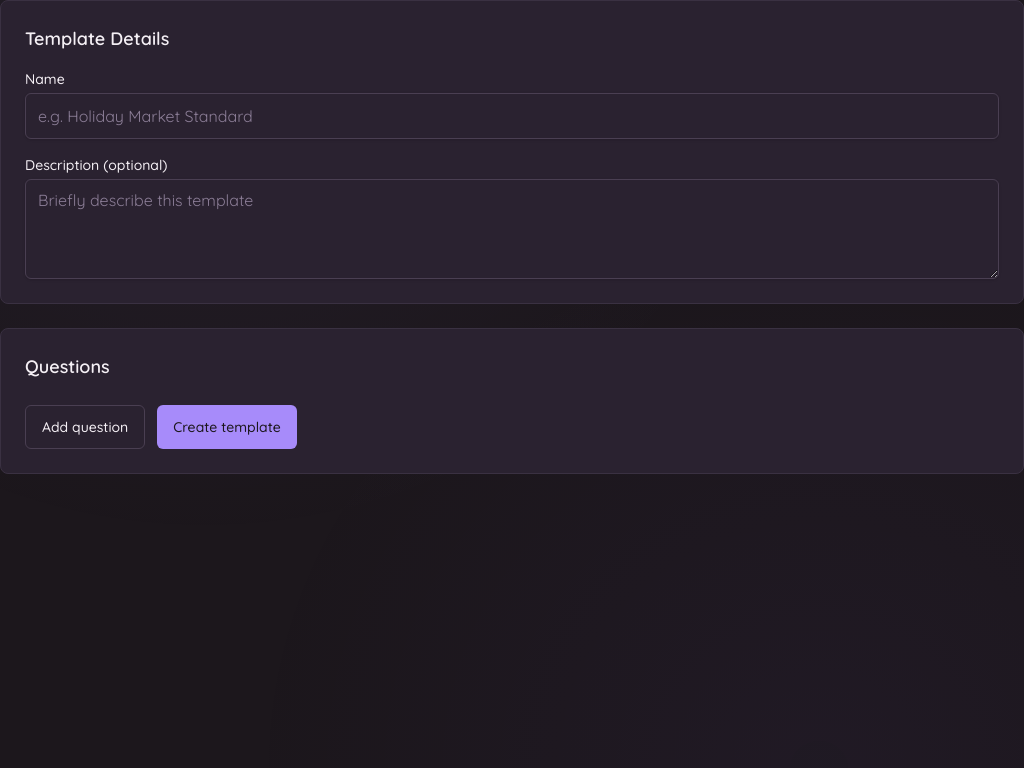
Test: TemplateBuilder › validation › shows name error and blocks save when name is empty
The width and height of the screenshot is (1024, 768).
Click the button "Create template": coordinates (227, 427) [157, 405, 297, 449]
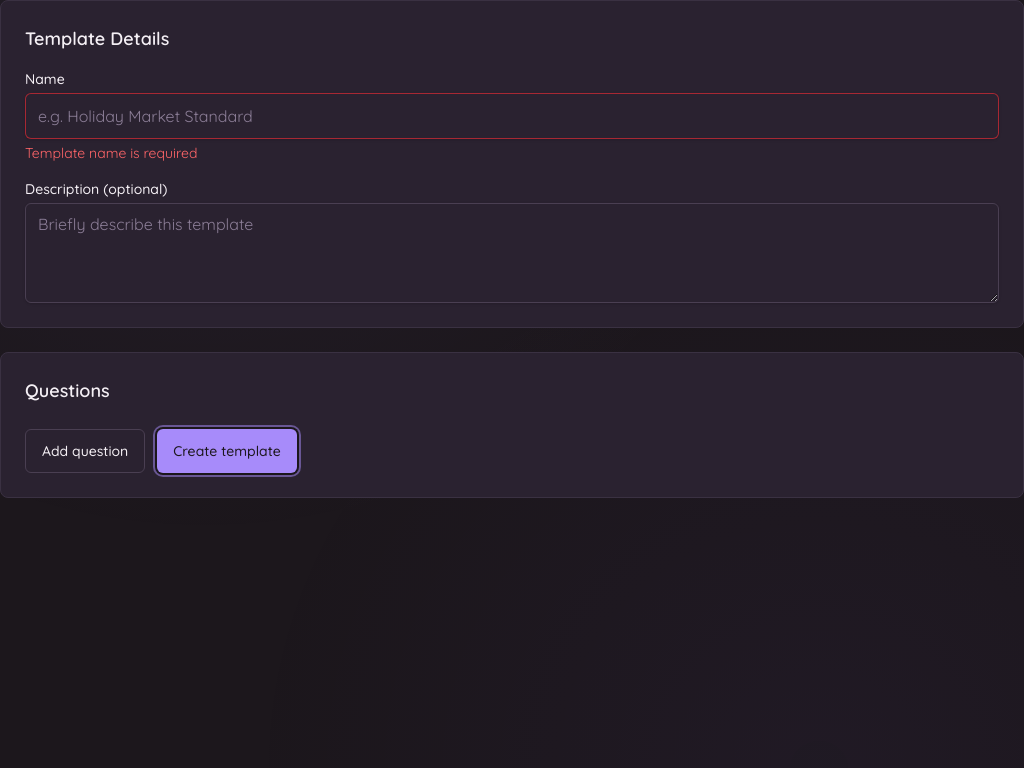
Result: the text "Template name is required" is shown at [25, 144, 197, 162]
